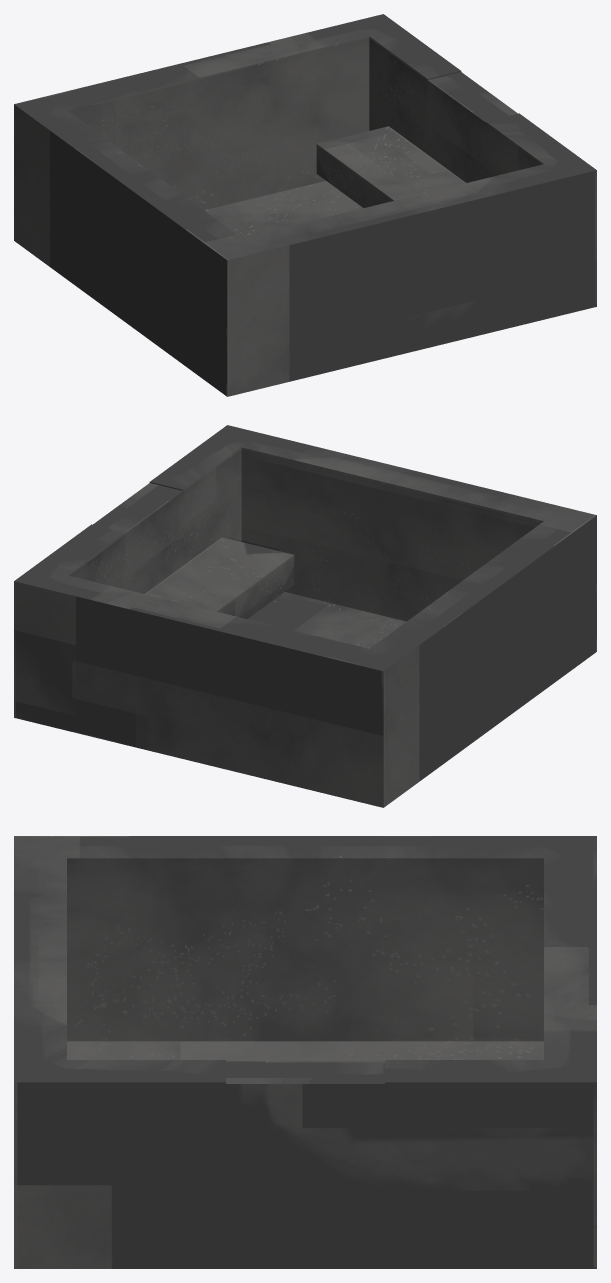
Rendered from tutorial.fbx.
3 renders of one model, top to bottom at view 1: azimuth 30°, elevation 25°; view 2: azimuth 150°, elevation 25°; view 3: azimuth 270°, elevation 25°, orthographic. The views are drawn at different scales.
Visible parts, largest first — view 1: Cube; view 2: Cube; view 3: Cube.
Boxes of the visible parts, bbox=[...] form: Cube: bbox=[14, 14, 596, 396]; Cube: bbox=[14, 425, 596, 807]; Cube: bbox=[14, 836, 596, 1268].
Bounding box in the file's own units: 2492 × 880 × 2492.
1 material, 1 textured.
